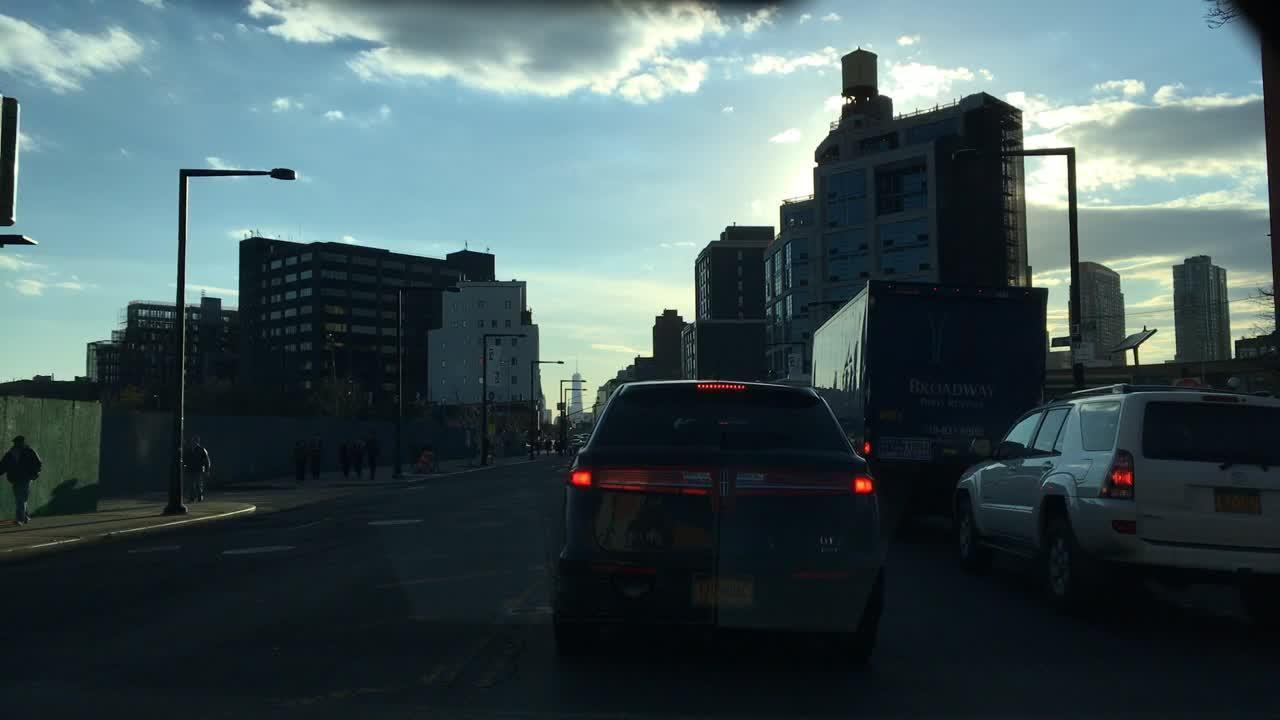lincoln: (715, 464, 731, 500)
